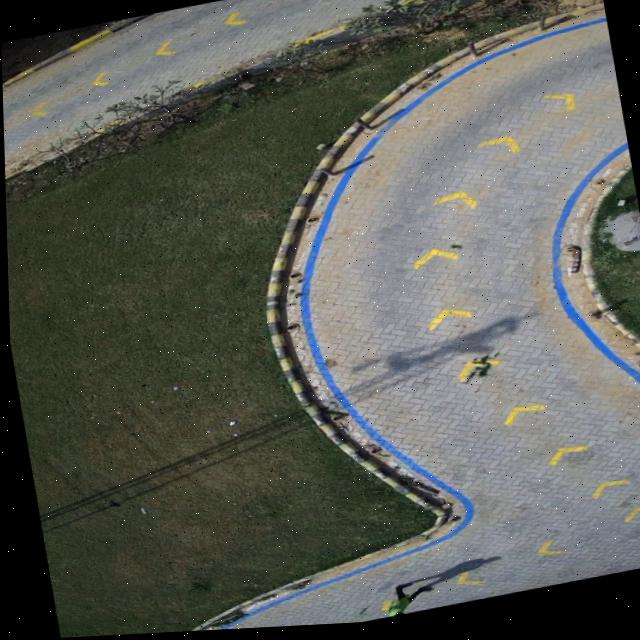No Car: (1, 0, 640, 638)
